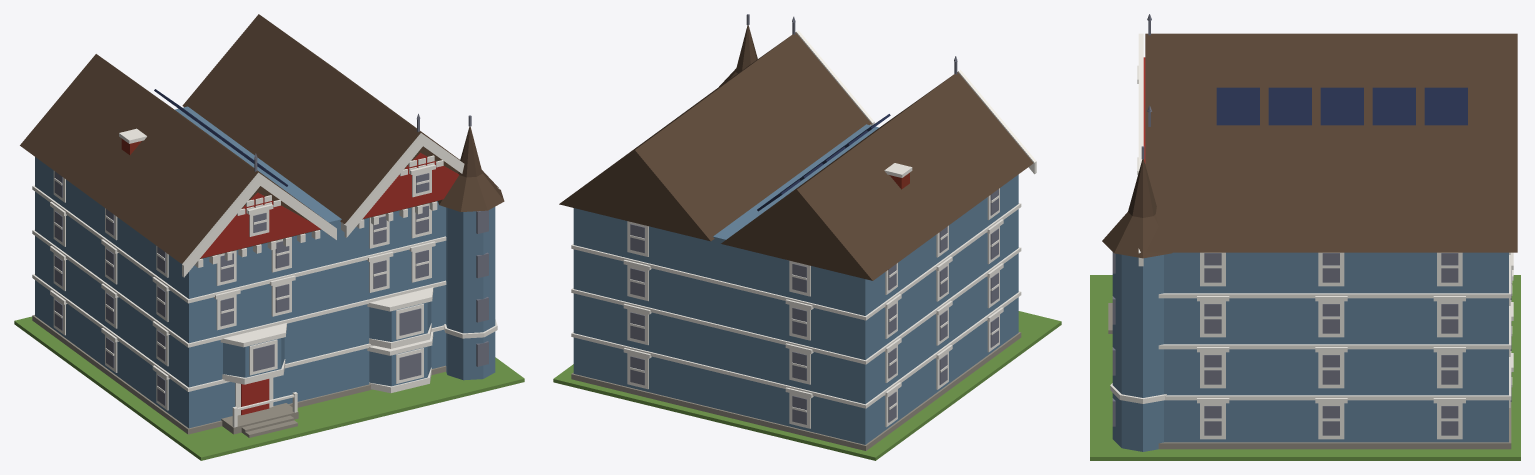
File: house-2x2-4f-victorian-a-solar.glb
The picture shows the model from 3 angles, left to right: view 1: azimuth 30°, elevation 25°; view 2: azimuth 150°, elevation 25°; view 3: azimuth 270°, elevation 25°; orthographic projection. The views are drawn at different scales.
Parts seen in each view (by area): view 1: house-2x2-4f-victorian-a-solar; view 2: house-2x2-4f-victorian-a-solar; view 3: house-2x2-4f-victorian-a-solar.
Part boxes in pixels (box(x1,y1,x2,y2)): house-2x2-4f-victorian-a-solar: box(14, 14, 524, 460); house-2x2-4f-victorian-a-solar: box(553, 14, 1061, 460); house-2x2-4f-victorian-a-solar: box(1090, 14, 1520, 460).
Bounding box in the file's own units: 1.99 × 1.58 × 1.99.
1 material, 1 textured.
